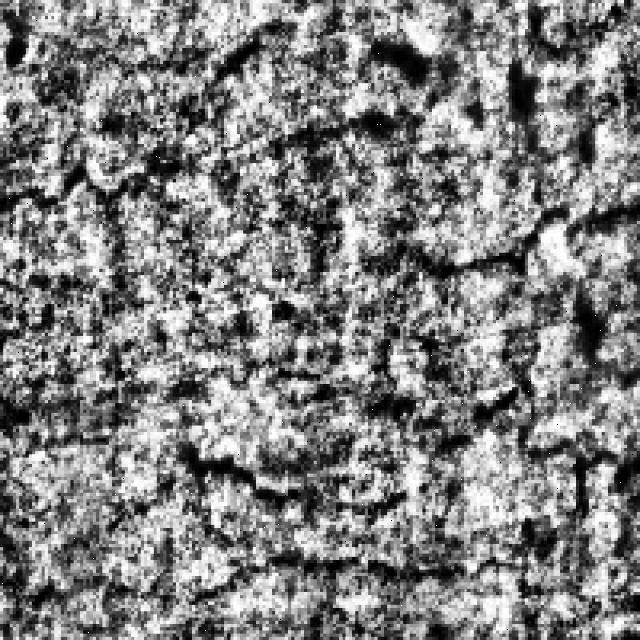Pitted_Surface: (26, 310, 636, 596), (269, 22, 637, 278), (0, 35, 435, 211)
